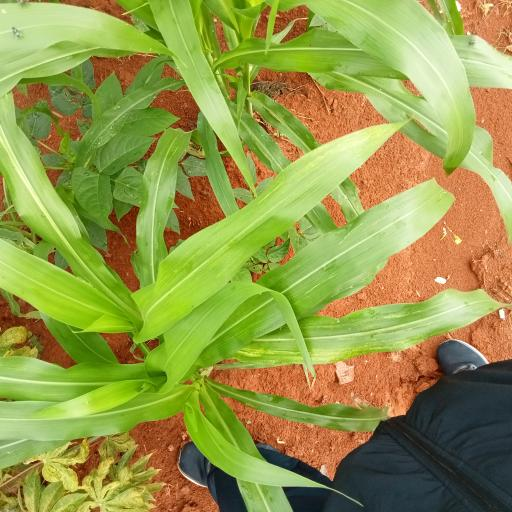Corn_Brown_Spots: (140, 125, 512, 425)
